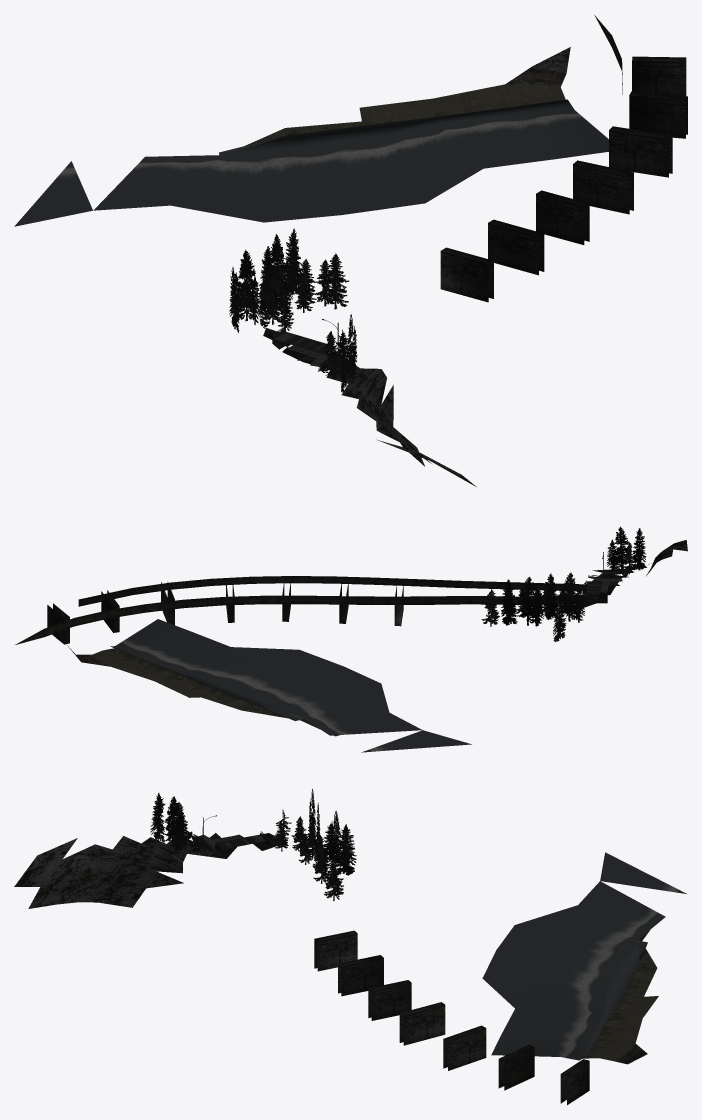
The model's file is cell_16_0.gltf.
3 views of the same model, one above another, from view 1: azimuth 30°, elevation 25°; view 2: azimuth 150°, elevation 25°; view 3: azimuth 270°, elevation 25° (orthographic). The views are drawn at different scales.
Parts seen in each view (by area): view 1: cell_16_0; view 2: cell_16_0; view 3: cell_16_0.
Boxes of the visible parts, box(x1,y1,x2,y2) form: cell_16_0: box(14, 15, 687, 486); cell_16_0: box(15, 526, 687, 752); cell_16_0: box(14, 788, 687, 1105).
Bounding box in the file's own units: 243 × 45.47 × 281.
Materials: 25 (25 with a texture image).
